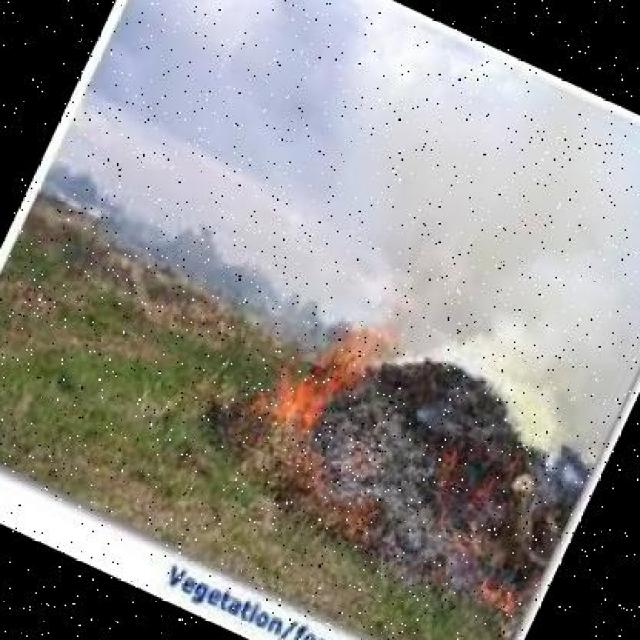fire: (243, 286, 412, 466)
